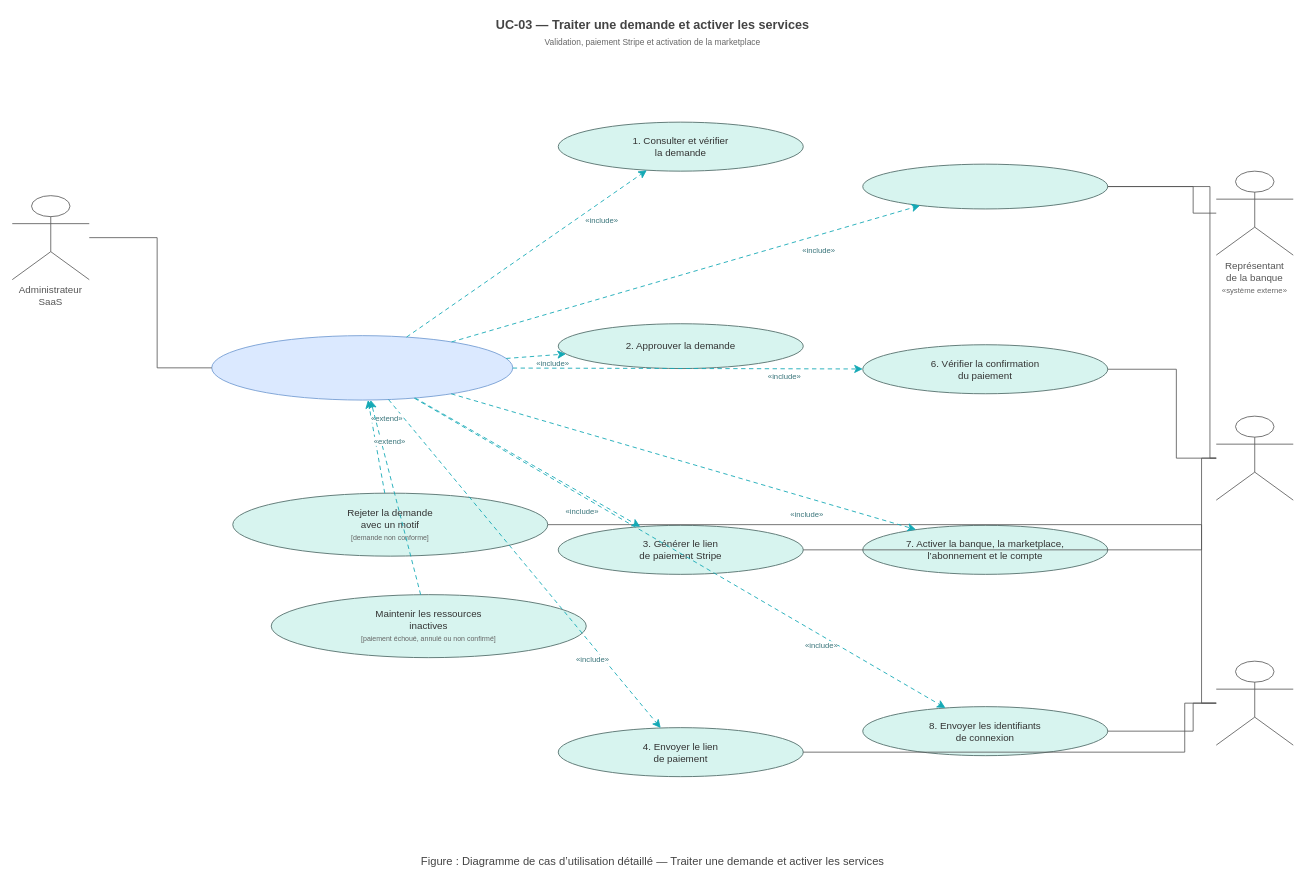
This 1306x885 diagram has some shape labels left out. The centre of each missing label's shape, as x and y in pixels:
"5. Effectuer le paiement" goes at pixel 985 186.
"Service e-mail «système externe»" goes at pixel 1254 702.
"Stripe «système externe»" goes at pixel 1254 457.
"Traiter la demande et activer les services" goes at pixel 362 367.
